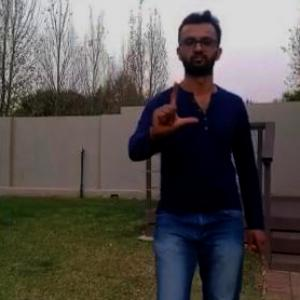land_hand: (146, 75, 202, 139)
